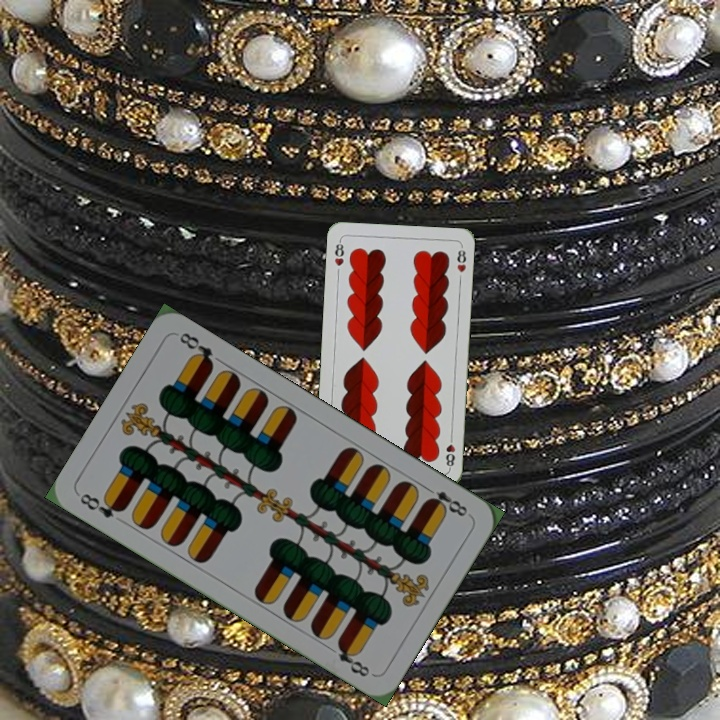E8: (420, 482, 470, 519), (76, 489, 128, 521)
H8: (442, 431, 458, 472), (330, 236, 346, 269)
